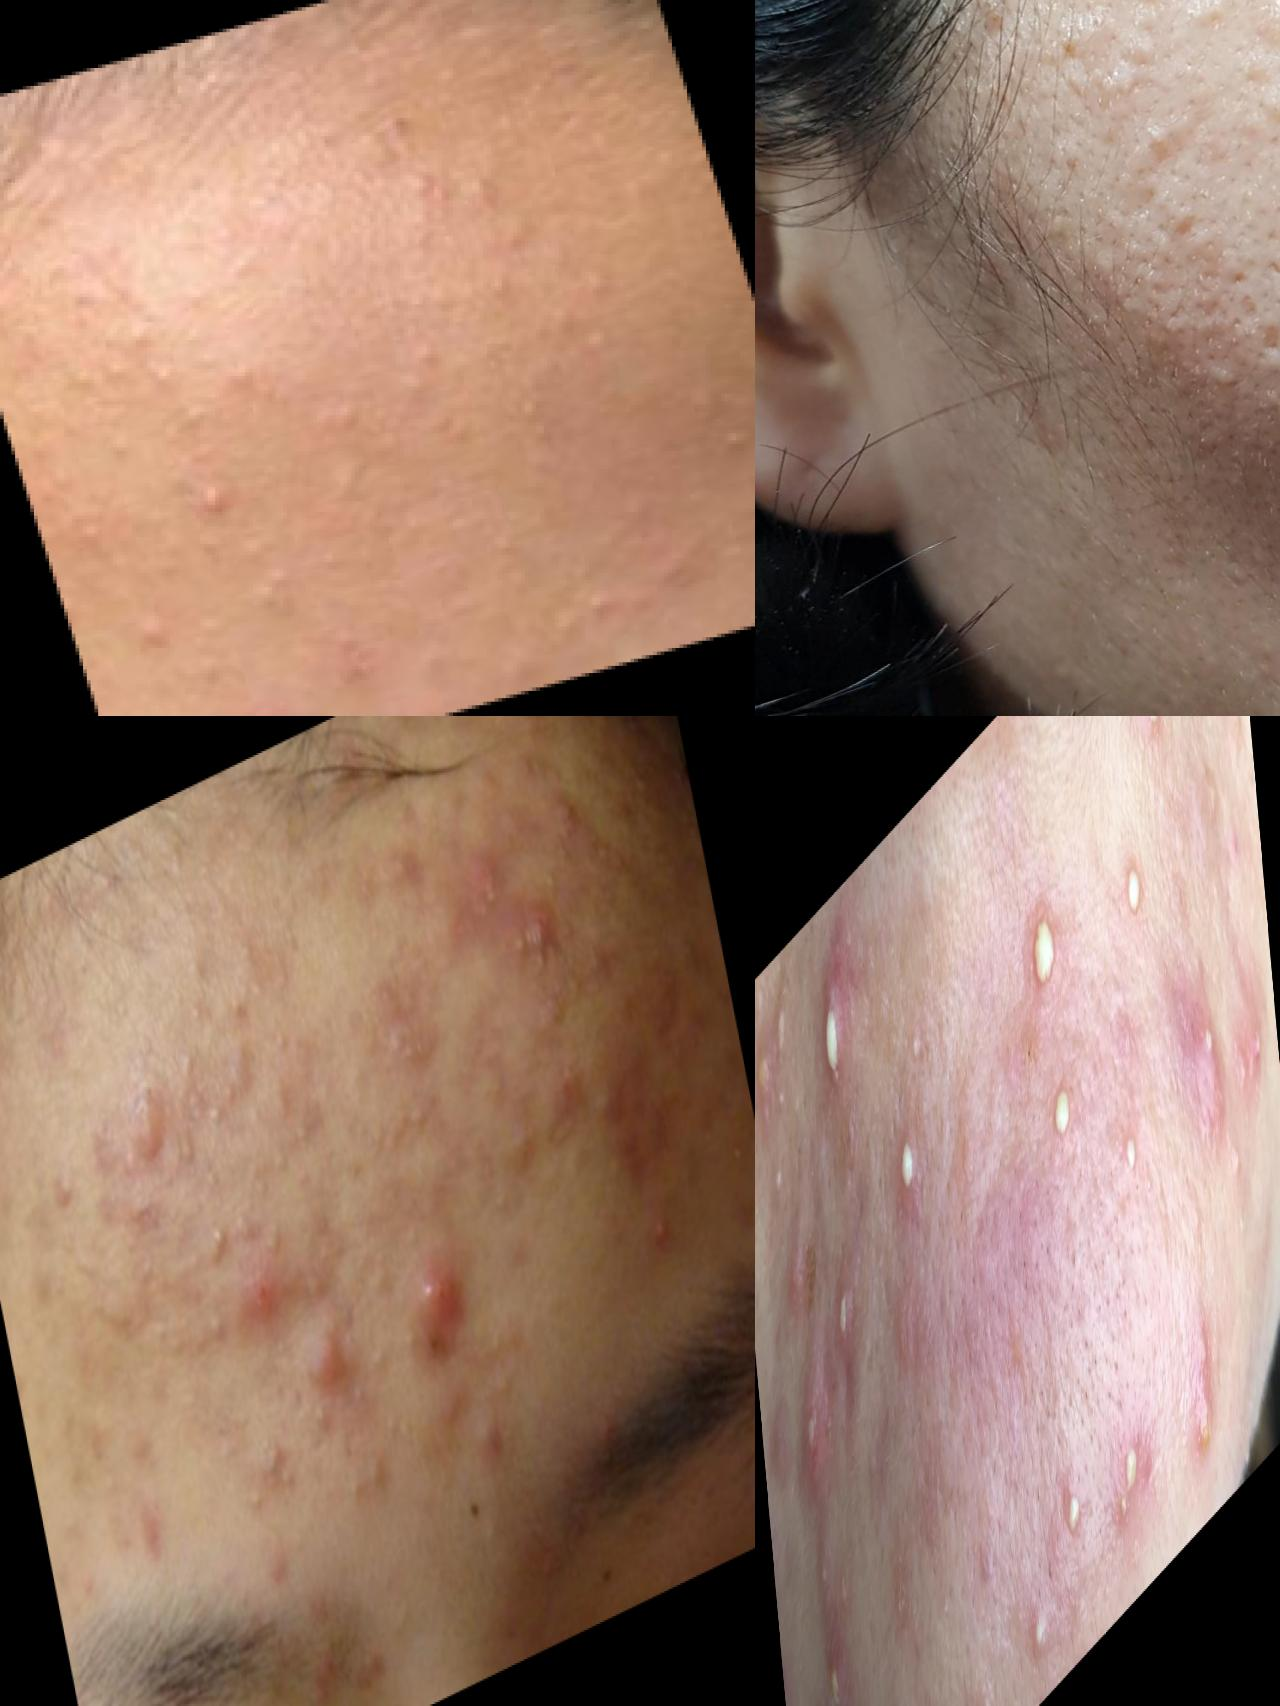flat_wart: (1213, 1, 1280, 187)
folliculitis: (1051, 1445, 1093, 1580), (891, 1114, 924, 1218)
papular: (215, 1230, 292, 1355), (117, 1063, 183, 1184), (532, 1049, 602, 1153), (293, 1297, 358, 1410)
purulent: (389, 1223, 488, 1378), (1018, 862, 1073, 1046), (807, 946, 856, 1137), (1043, 1045, 1082, 1191), (1111, 1416, 1151, 1542), (1121, 827, 1151, 960), (1115, 1098, 1147, 1219), (1026, 1588, 1053, 1680), (1139, 717, 1168, 773), (975, 1662, 1004, 1706)
sebo-crystan-conglo: (1181, 969, 1233, 1184), (785, 1320, 836, 1541), (756, 949, 799, 1184), (440, 847, 524, 954), (805, 1547, 861, 1706), (500, 887, 575, 981), (1186, 1327, 1224, 1511), (834, 1262, 861, 1365)
whitehead: (42, 296, 204, 422), (1167, 280, 1280, 444), (375, 128, 522, 239), (532, 550, 670, 657), (624, 1209, 701, 1322), (169, 450, 259, 544), (520, 772, 594, 883), (372, 321, 463, 411), (235, 1416, 309, 1525), (371, 971, 442, 1084), (332, 1433, 403, 1525), (31, 1149, 94, 1244), (362, 834, 432, 918), (389, 1062, 445, 1163), (208, 674, 311, 717), (456, 1494, 504, 1573), (255, 1067, 307, 1137), (476, 1362, 527, 1430), (190, 1069, 237, 1143), (198, 1202, 243, 1274), (469, 1162, 515, 1230), (356, 1250, 393, 1324), (359, 1324, 397, 1391), (588, 1077, 627, 1140), (195, 1299, 233, 1363), (496, 1114, 536, 1166)
